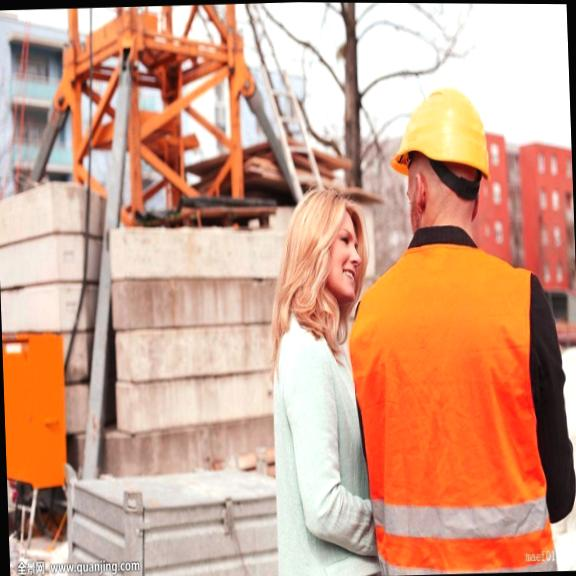safety_vest: (347, 254, 557, 576)
